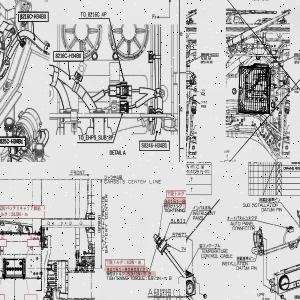PartNumber: (0, 137, 23, 145), (20, 13, 46, 20), (141, 142, 167, 149), (106, 267, 140, 272), (56, 53, 82, 58), (164, 198, 186, 203), (171, 231, 186, 236), (171, 218, 186, 223), (201, 53, 219, 56), (293, 52, 300, 56)
